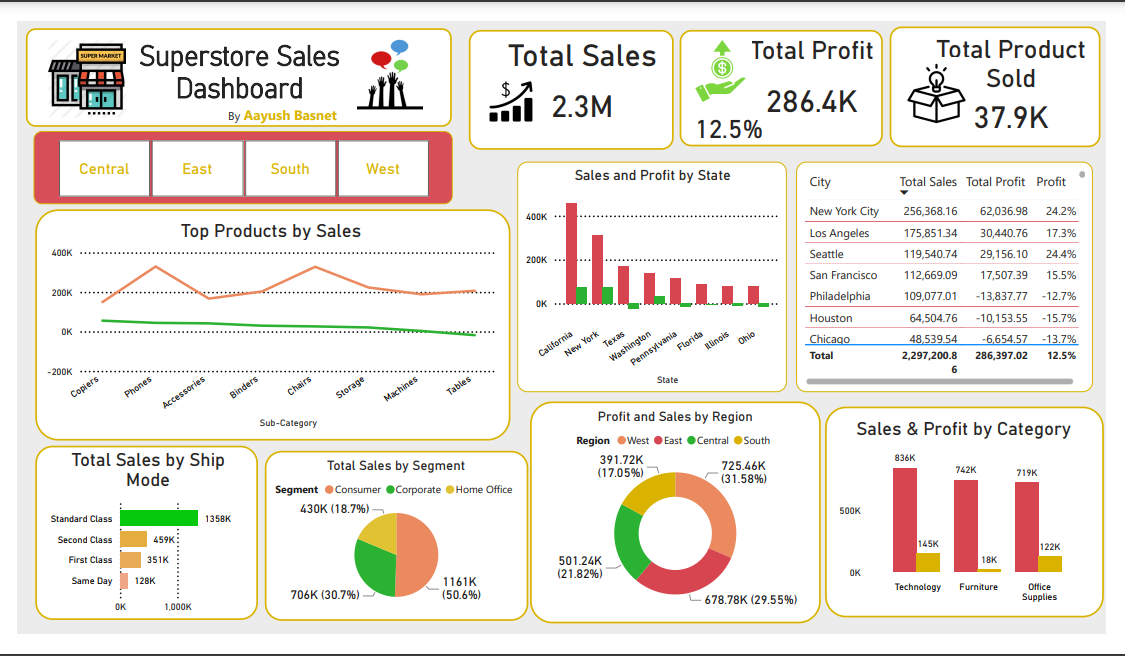

This screenshot's page, from the dashboard's own definition file:
{"tool":"powerbi","page":{"name":"Dashboard","canvas":[1280,720],"ordinal":0},"visuals":[{"type":"shape","box":[9.5,8,501,116.1],"z":0},{"type":"shape","box":[531.1,9.7,241.3,140.9],"z":1000},{"type":"shape","box":[778.8,9.7,239.6,137.6],"z":2000},{"type":"shape","box":[1025.9,6.4,248.1,141.6],"z":3000},{"type":"shape","box":[20.8,221.1,559.4,272.1],"z":4000},{"type":"shape","box":[21,498.7,262.3,205.6],"z":5000},{"type":"shape","box":[290.8,504.6,310.1,200.3],"z":6000},{"type":"shape","box":[950.5,453.4,327.1,247.7],"z":7000},{"type":"shape","box":[603.3,446.7,341.7,261.7],"z":8000},{"type":"textbox","box":[132,15.9,259.3,98.6],"z":9000},{"type":"card","title":"Total Sales","fields":{"Values":["Sum(SampleSuperstore.Sales)"]},"box":[565.1,17.8,199.2,115],"z":10000},{"type":"card","title":"Total Profit","fields":{"Values":["Sum(SampleSuperstore.Profit)"]},"box":[835.1,15.9,198.8,114.5],"z":11000},{"type":"clusteredColumnChart","title":"Sales & Profit by Category","fields":{"Category":["SampleSuperstore.Category"],"Y":["Sum(SampleSuperstore.Sales)","Sum(SampleSuperstore.Profit)"]},"box":[962.3,466,302.2,224.3],"z":12000},{"type":"pieChart","title":"Total Sales by Segment","fields":{"Category":["SampleSuperstore.Segment"],"Y":["Sum(SampleSuperstore.Sales)"]},"box":[299.6,513.3,291.5,183],"z":13000},{"type":"donutChart","title":"Sales & Profit by Region","fields":{"Category":["SampleSuperstore.Region"],"Y":["Sum(SampleSuperstore.Sales)"]},"box":[618.3,455,311.7,248.3],"z":14000},{"type":"lineChart","title":"Top Products by Sales ","fields":{"Category":["SampleSuperstore.Sub-Category"],"Y":["Sum(SampleSuperstore.Sales)","Sum(SampleSuperstore.Profit)"]},"box":[29.1,233.2,539.2,249.4],"z":15000},{"type":"card","title":"Total Product Sold","fields":{"Values":["Sum(SampleSuperstore.Quantity)"]},"box":[1070.3,14.6,197.5,121.4],"z":16000},{"type":"clusteredBarChart","title":"Total Sales by Ship Mode","fields":{"Category":["SampleSuperstore.Ship Mode"],"Y":["Sum(SampleSuperstore.Sales)"]},"box":[32.7,502.6,242.7,200.3],"z":17000},{"type":"clusteredColumnChart","title":"Sales and Profit by State","fields":{"Category":["SampleSuperstore.State"],"Y":["Sum(SampleSuperstore.Sales)","Sum(SampleSuperstore.Profit)"]},"box":[587.8,165.2,317.4,270.4],"z":18000},{"type":"slicer","fields":{"Values":["SampleSuperstore.Region"]},"box":[18.6,128.8,493.2,86.4],"z":19000},{"type":"tableEx","fields":{"Values":["SampleSuperstore.City","Sum(SampleSuperstore.Sales)","Sum(SampleSuperstore.Profit)","SampleSuperstore.Profit %"]},"box":[916.5,165.2,348.1,270.4],"z":20000},{"type":"card","fields":{"Values":["SampleSuperstore.Profit %"]},"box":[777.8,89.1,117.7,70],"z":21000},{"type":"image","box":[384.9,12.7,105,105],"z":22000},{"type":"image","box":[540.8,57.3,79.5,73.2],"z":23000},{"type":"image","box":[785.8,15.9,82.7,82.7],"z":24000},{"type":"image","box":[1033.9,31.8,93.8,105],"z":25000},{"type":"image","box":[31.8,14.3,100.2,106.6],"z":26000},{"type":"textbox","box":[243.4,93.8,160.7,36.6],"z":27000}]}

Visuals, with their boxes on the page's 1280x720 design canvas (x1, y1, x2, y2). These are canvas units, not pixel positions in the 1125x656 screenshot, which may show the page scaled, cropped or inside an application window:
shape: (left=10, top=8, right=510, bottom=124)
shape: (left=531, top=10, right=772, bottom=151)
shape: (left=779, top=10, right=1018, bottom=147)
shape: (left=1026, top=6, right=1274, bottom=148)
shape: (left=21, top=221, right=580, bottom=493)
shape: (left=21, top=499, right=283, bottom=704)
shape: (left=291, top=505, right=601, bottom=705)
shape: (left=950, top=453, right=1278, bottom=701)
shape: (left=603, top=447, right=945, bottom=708)
textbox: (left=132, top=16, right=391, bottom=114)
"Total Sales" card: (left=565, top=18, right=764, bottom=133)
"Total Profit" card: (left=835, top=16, right=1034, bottom=130)
"Sales & Profit by Category" clusteredColumnChart: (left=962, top=466, right=1264, bottom=690)
"Total Sales by Segment" pieChart: (left=300, top=513, right=591, bottom=696)
"Sales & Profit by Region" donutChart: (left=618, top=455, right=930, bottom=703)
"Top Products by Sales " lineChart: (left=29, top=233, right=568, bottom=483)
"Total Product Sold" card: (left=1070, top=15, right=1268, bottom=136)
"Total Sales by Ship Mode" clusteredBarChart: (left=33, top=503, right=275, bottom=703)
"Sales and Profit by State" clusteredColumnChart: (left=588, top=165, right=905, bottom=436)
slicer - SampleSuperstore.Region: (left=19, top=129, right=512, bottom=215)
tableEx - SampleSuperstore.City x Sum(SampleSuperstore.Sales): (left=916, top=165, right=1265, bottom=436)
card - SampleSuperstore.Profit %: (left=778, top=89, right=896, bottom=159)
image: (left=385, top=13, right=490, bottom=118)
image: (left=541, top=57, right=620, bottom=130)
image: (left=786, top=16, right=868, bottom=99)
image: (left=1034, top=32, right=1128, bottom=137)
image: (left=32, top=14, right=132, bottom=121)
textbox: (left=243, top=94, right=404, bottom=130)
